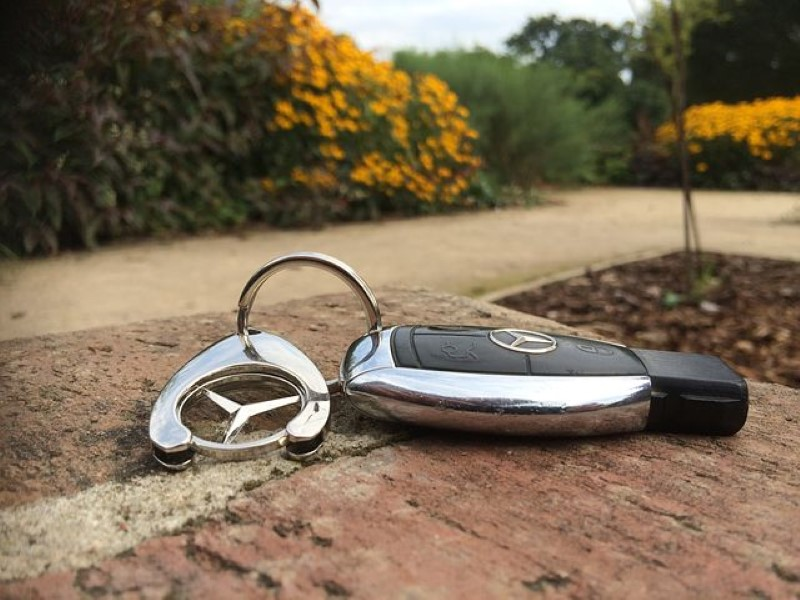carkey: (340, 322, 755, 450)
